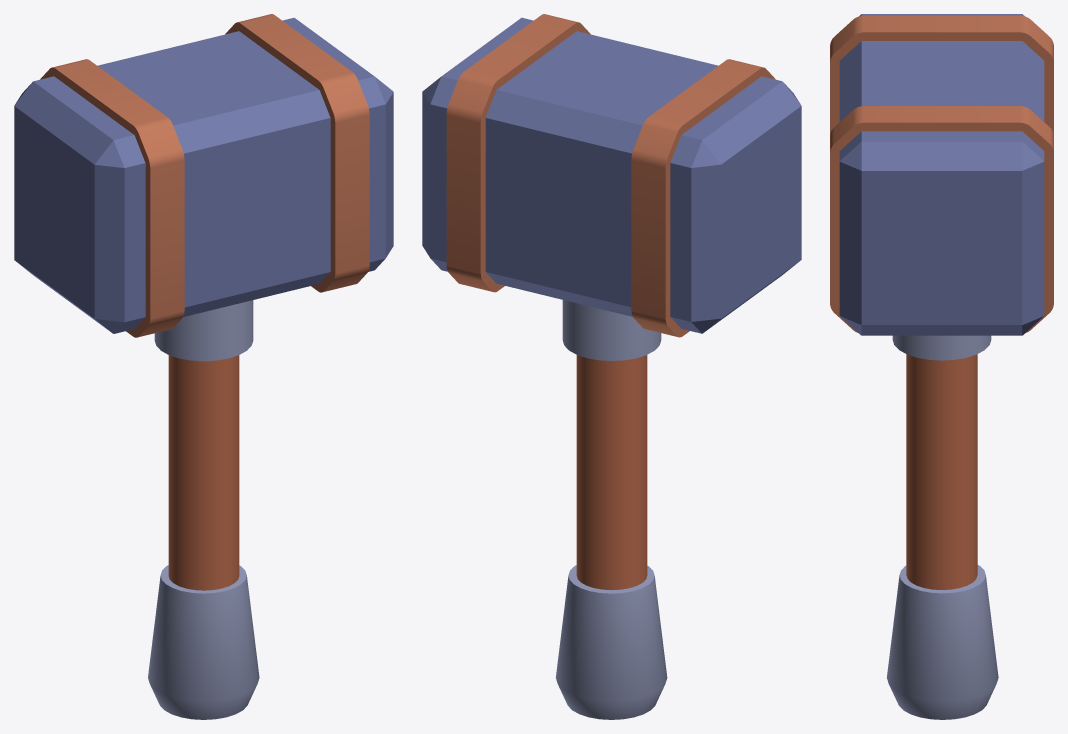
The model's file is Hammer A Multi.fbx.
The picture shows the model from 3 angles, left to right: view 1: azimuth 30°, elevation 25°; view 2: azimuth 150°, elevation 25°; view 3: azimuth 270°, elevation 25°; orthographic projection.
Parts seen in each view (by area): view 1: Hammer A Multi; view 2: Hammer A Multi; view 3: Hammer A Multi.
Part boxes in pixels (x1,y1,x2,y2): Hammer A Multi: (14,14,393,719); Hammer A Multi: (422,14,801,719); Hammer A Multi: (830,14,1053,719).
Bounding box in the file's own units: 0.5041 × 1.02 × 0.3264.
